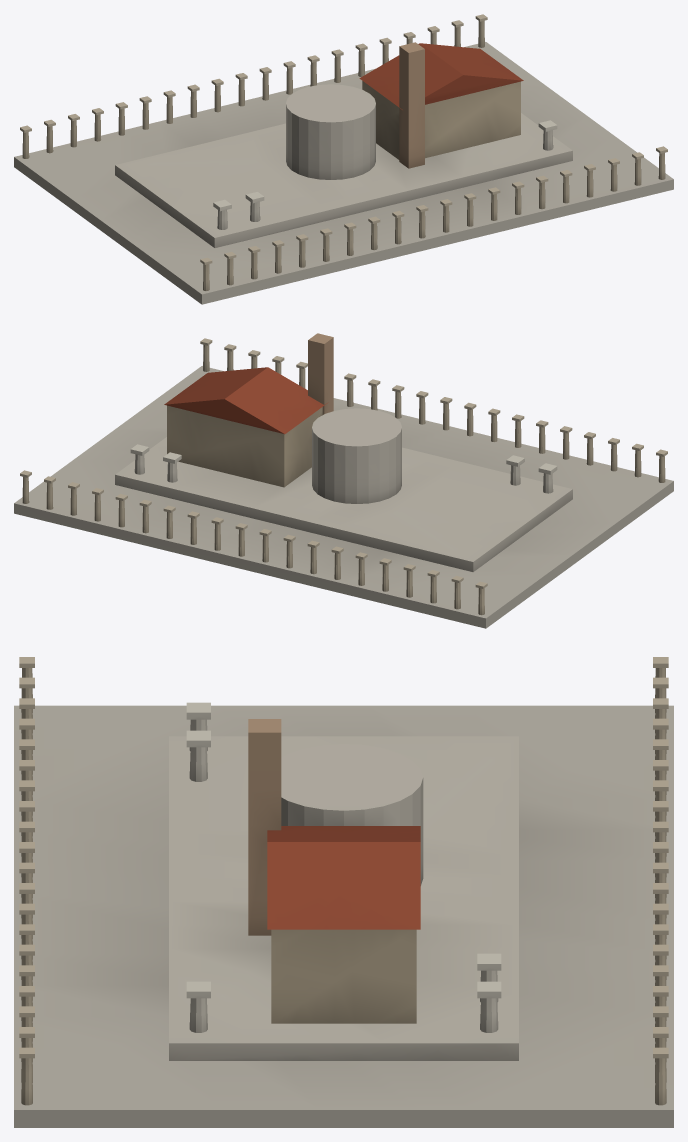
Rendered from santa-francesca-romana.glb.
3 views of the same model, one above another, from view 1: azimuth 30°, elevation 25°; view 2: azimuth 150°, elevation 25°; view 3: azimuth 270°, elevation 25° (orthographic). The views are drawn at different scales.
Visible parts, largest first — view 1: p0_platform, p2_church, p1_remains; view 2: p0_platform, p2_church, p1_remains; view 3: p0_platform, p2_church, p1_remains.
Boxes of the visible parts, left/top/right/bottom form: p0_platform: left=14, top=14, right=673, bottom=304; p2_church: left=359, top=42, right=523, bottom=168; p1_remains: left=213, top=84, right=557, bottom=229; p0_platform: left=14, top=338, right=673, bottom=628; p2_church: left=164, top=333, right=333, bottom=487; p1_remains: left=130, top=408, right=557, bottom=503; p0_platform: left=14, top=657, right=673, bottom=1127; p2_church: left=248, top=719, right=420, bottom=1023; p1_remains: left=186, top=702, right=501, bottom=1032.
Bounding box in the file's own units: 145 × 39.94 × 100.
